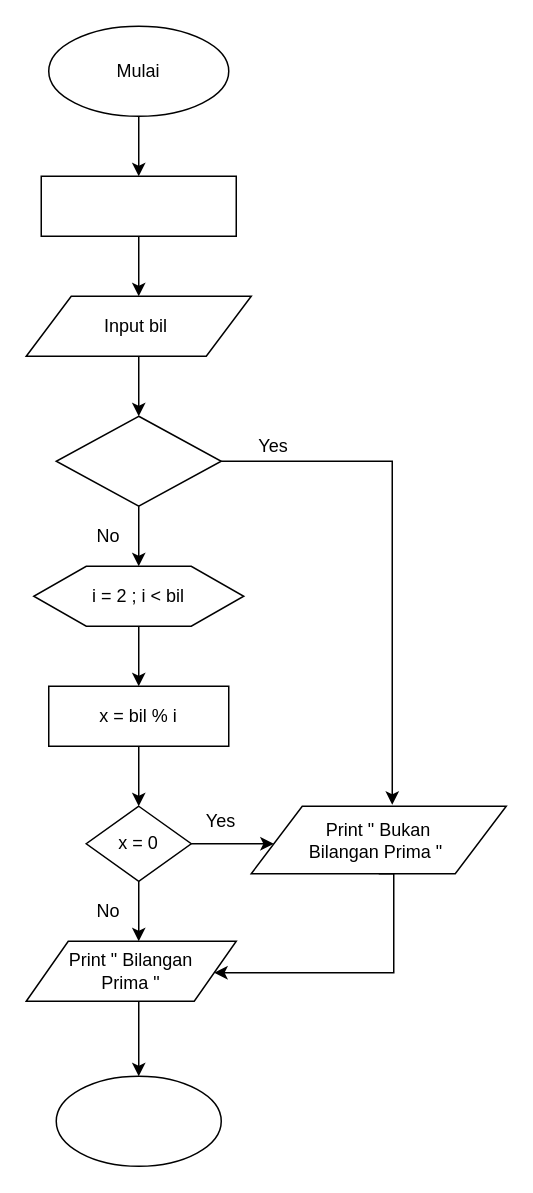
This 533x1193 diagram has some shape labels left out. Here are the shapes that lost their labels. From the top down, the centre of each, then its label:
At (138,205): "i , bil, x".
At (138,460): "bil < 0".
At (138,1120): "Selesai".
